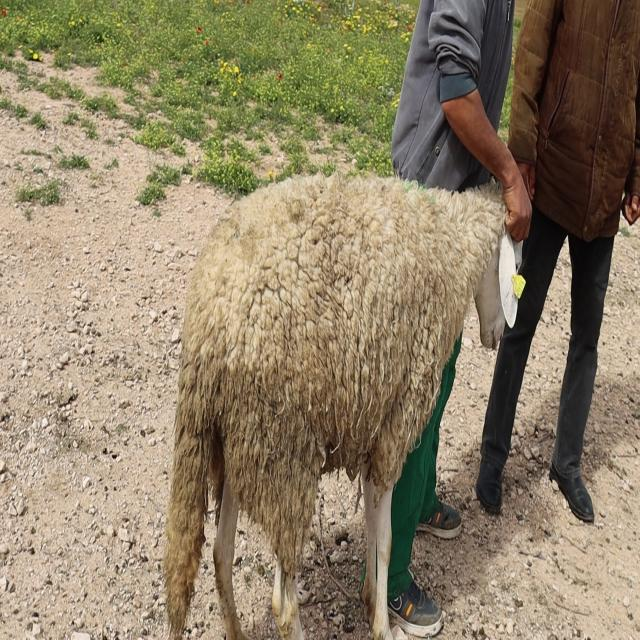Score_3: (164, 175, 519, 639)
